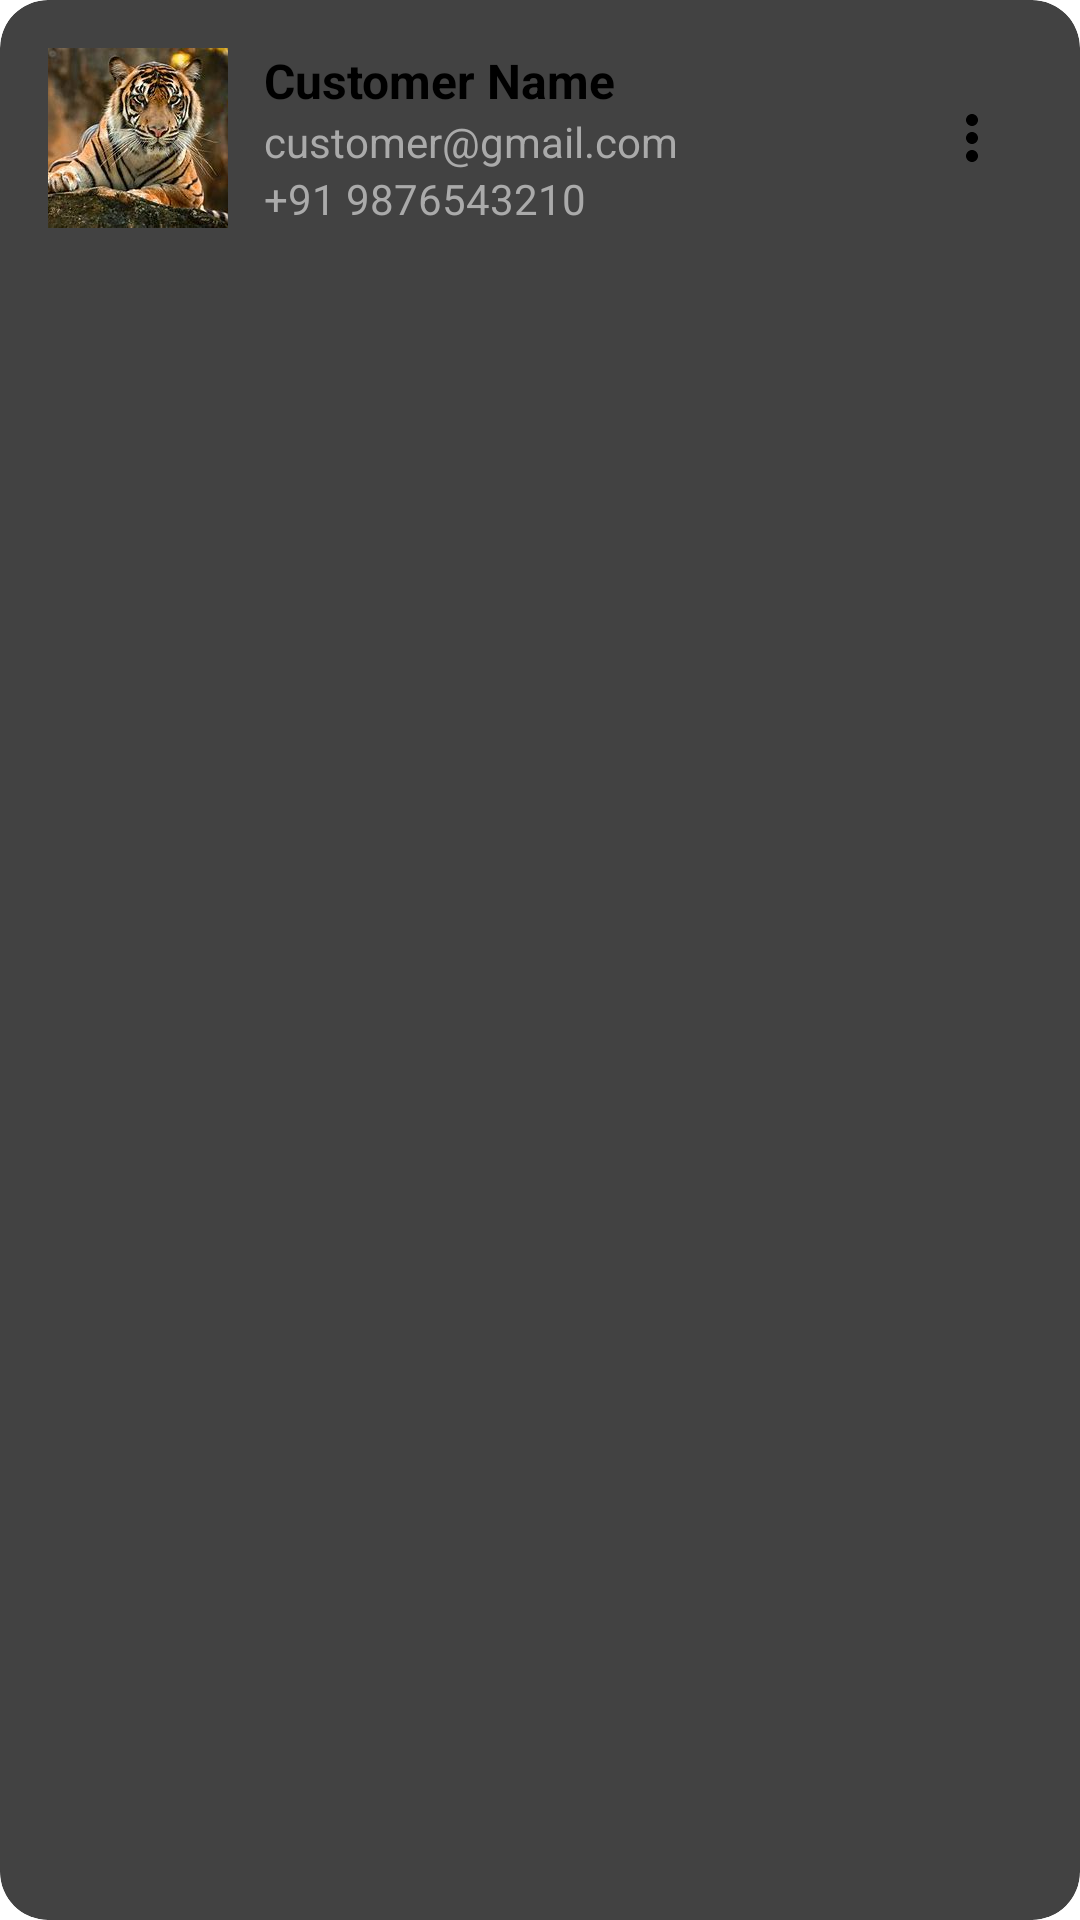

Icon click points for this 1080 × 1920 phone screenshot, format (x,y):
more vert: (972,138)
tioger: (138,138)
